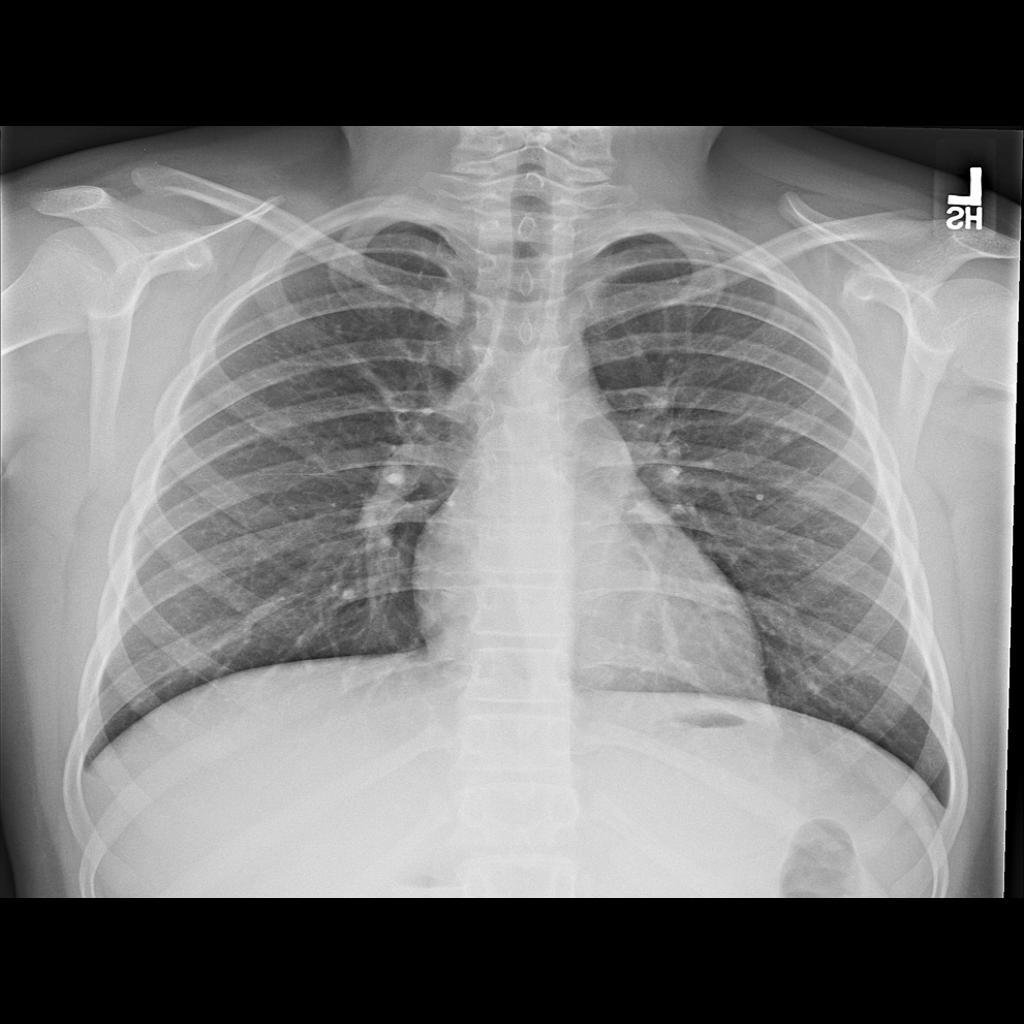Nodule: (433, 293, 470, 329)
